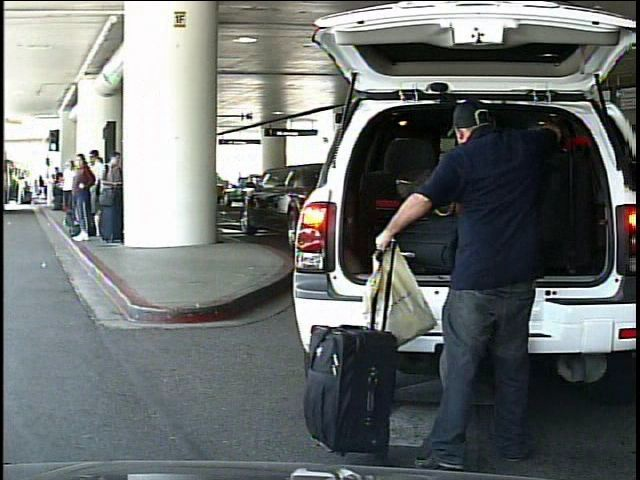person: (370, 101, 563, 473), (34, 172, 47, 203), (18, 175, 28, 206)
